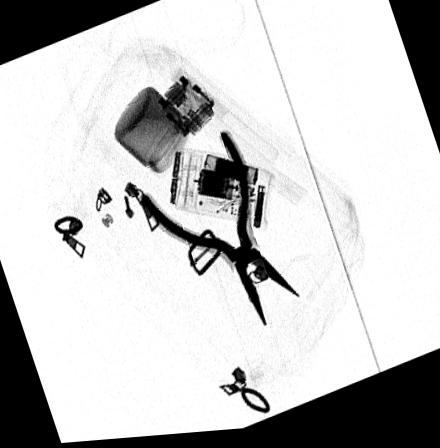Pliers: (137, 133, 302, 331)
